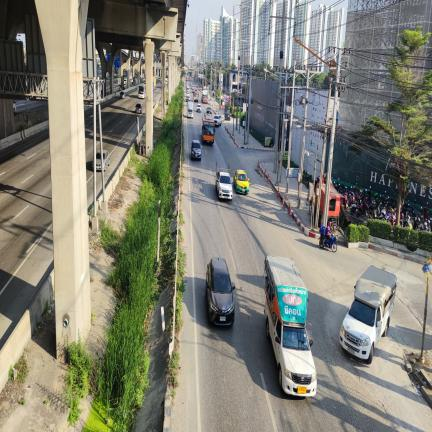bus: (202, 114, 215, 145), (193, 89, 199, 102)
car: (206, 258, 235, 325), (103, 150, 110, 171), (96, 150, 102, 171), (92, 161, 94, 169)
motorbike: (319, 225, 337, 252)
pickup: (264, 256, 317, 397), (340, 266, 397, 364), (215, 162, 233, 201), (191, 140, 202, 160), (214, 114, 222, 127)
taxi: (233, 170, 249, 194)
truck: (201, 90, 208, 104), (188, 101, 193, 118)
